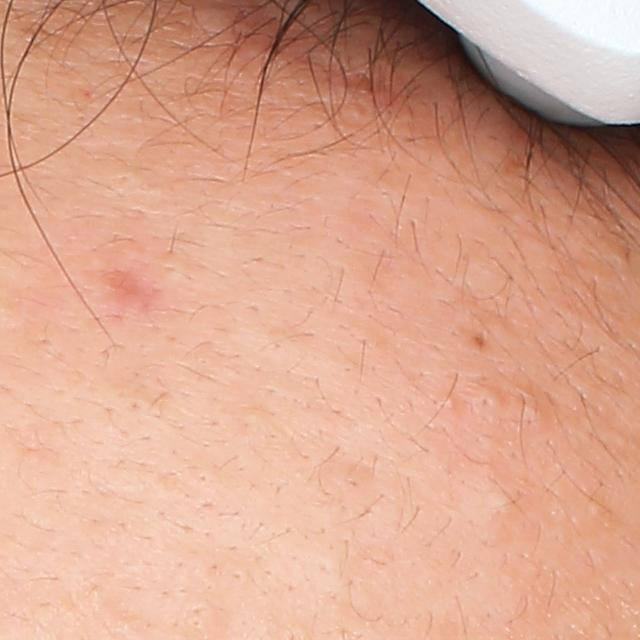comedo: (510, 389, 551, 440)
